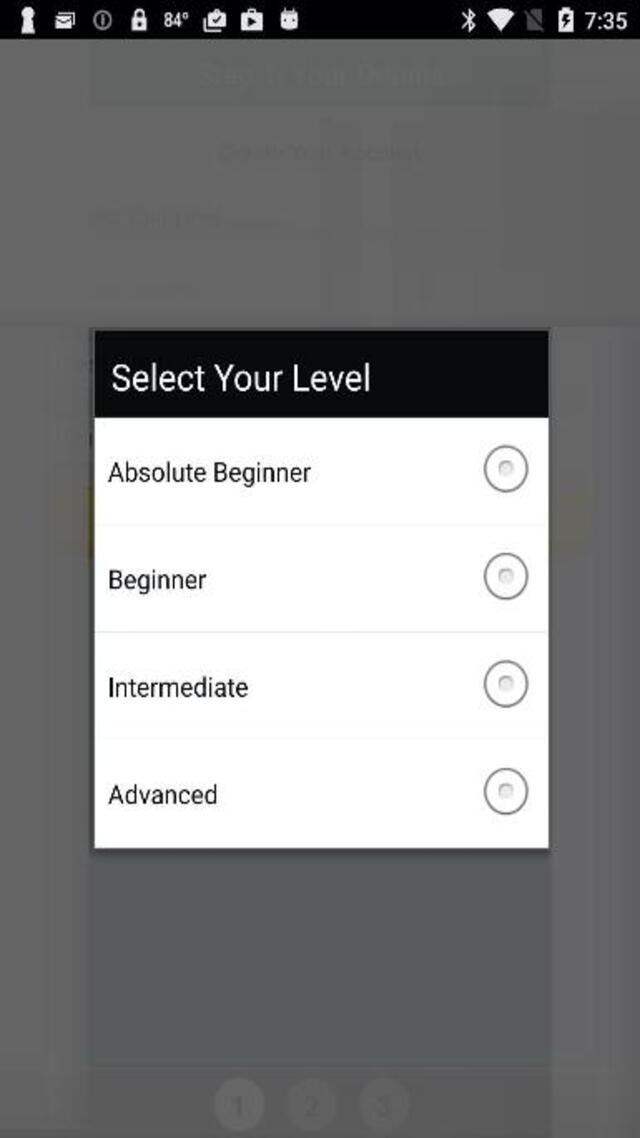CheckedTextView: (110, 444, 528, 492), (110, 552, 528, 600), (110, 659, 528, 707), (110, 768, 528, 815)
Text: (113, 363, 369, 391), (108, 462, 311, 488), (110, 676, 248, 697), (110, 569, 206, 594), (110, 784, 216, 806)
